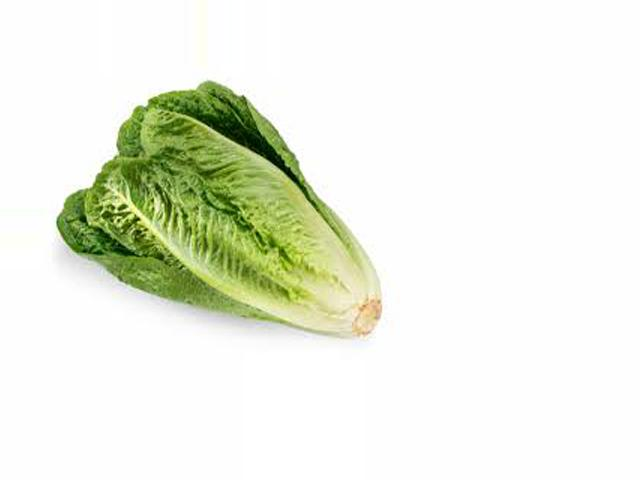lettuce: (58, 82, 386, 341)
